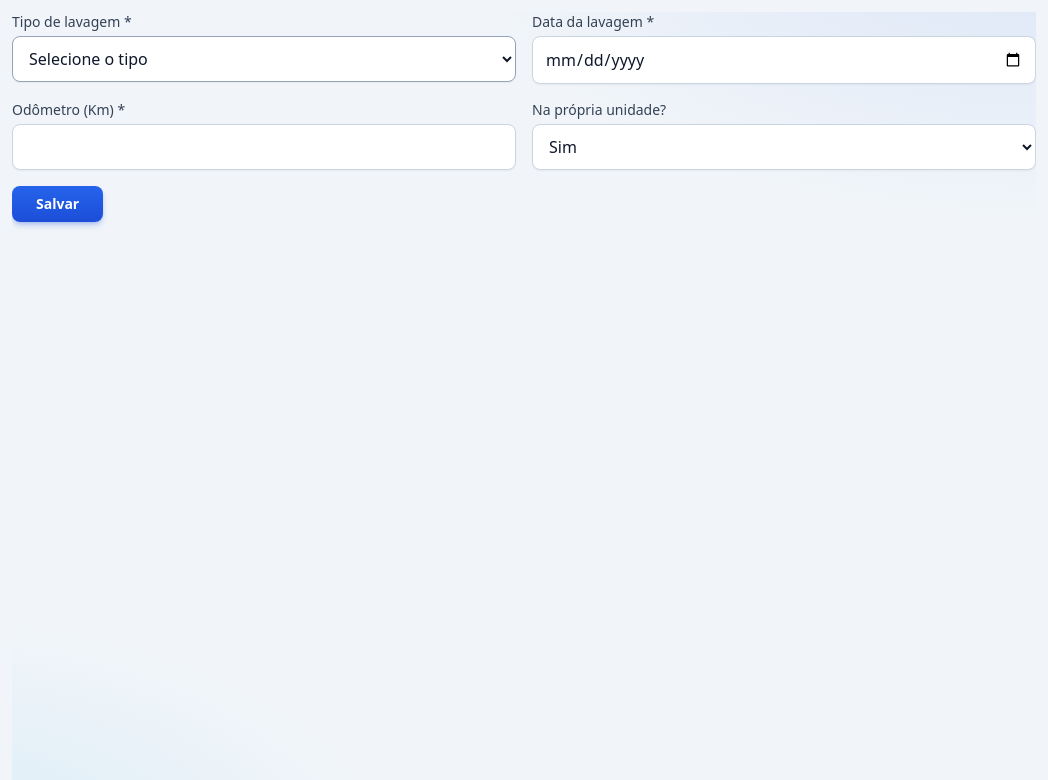
LavagemForm — km no envio (Req. 4.3 / R04) › R04: km zero bloqueia o envio e sinaliza erro no campo Odômetro
The image size is (1048, 780).
Select "Completa" in the dropdown labelled "Tipo de lavagem *" at [264, 59], box left=12, top=36, right=516, bottom=82
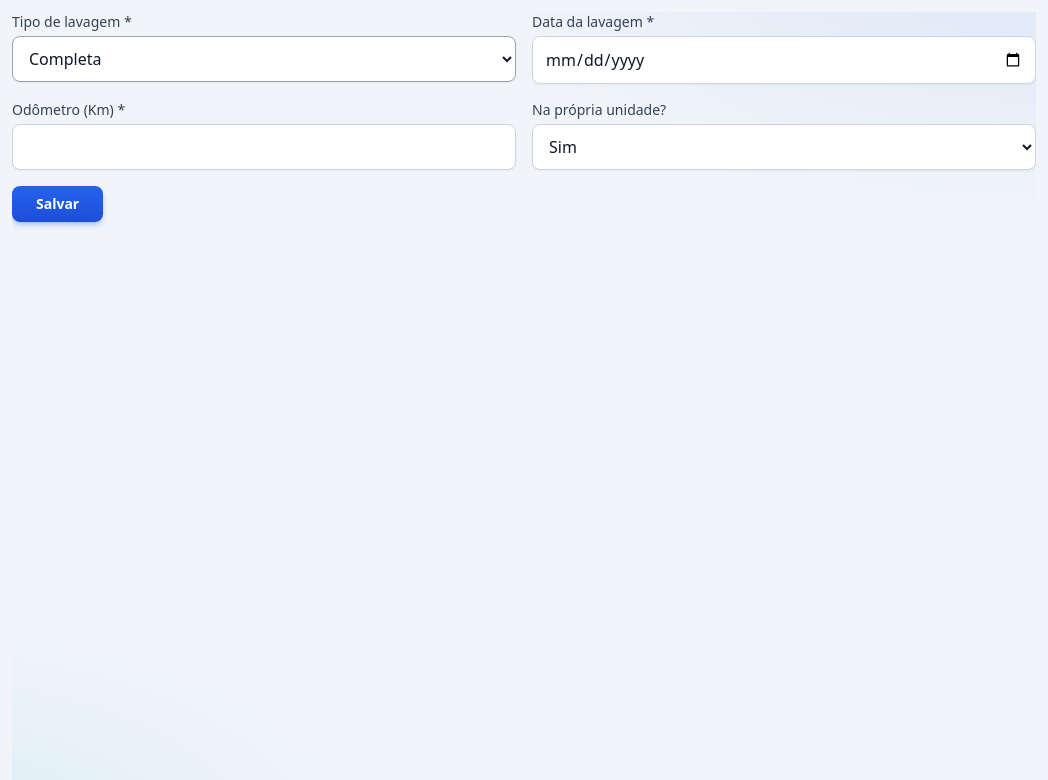
Type "2026-01-15" into the date field labelled "Data da lavagem *" at [784, 60], box left=532, top=36, right=1036, bottom=84
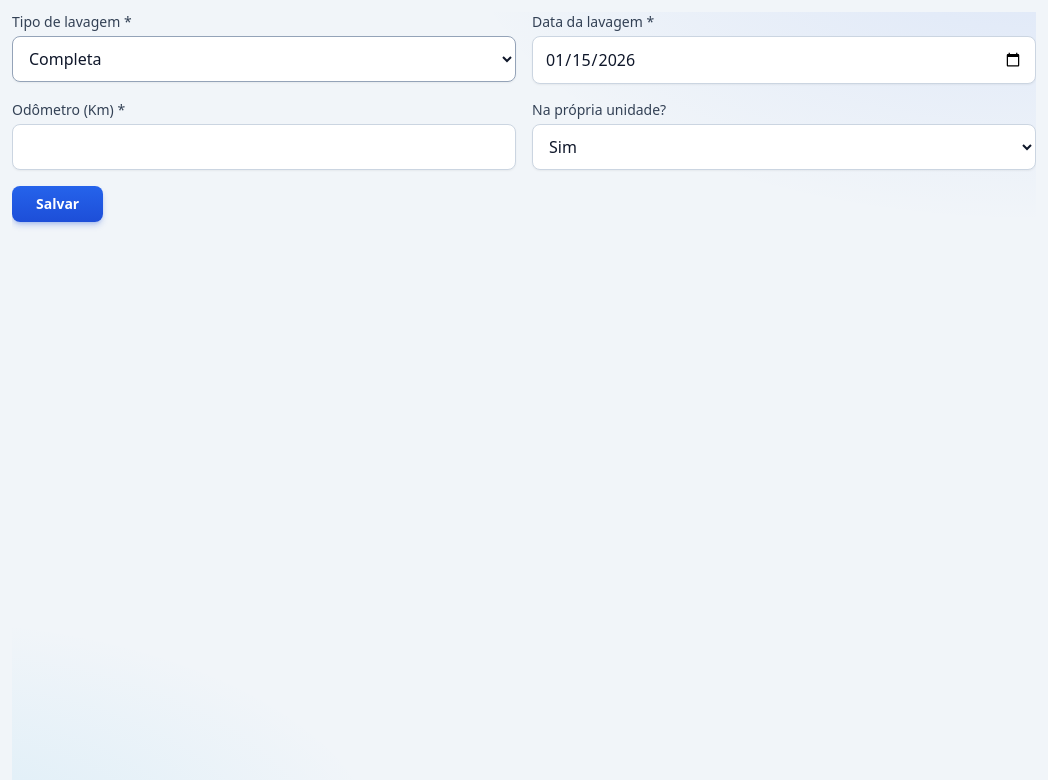
Type "0" into the number field labelled "Odômetro (Km) *" at [264, 147], box left=12, top=124, right=516, bottom=170
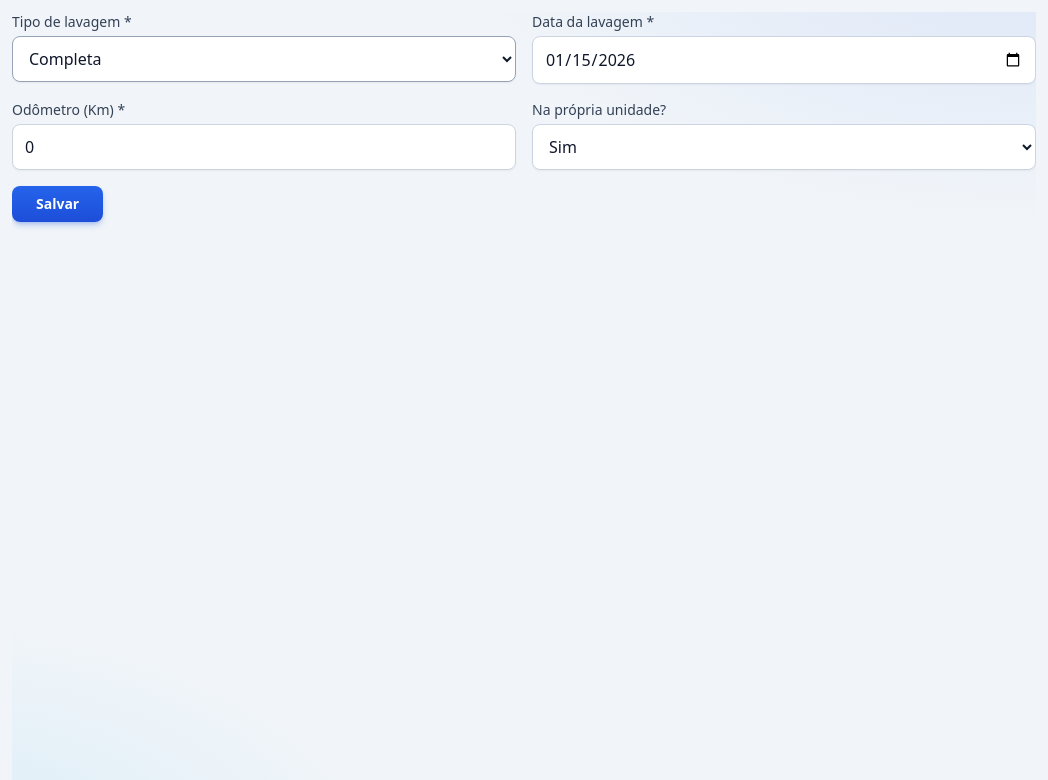
Click the button "Salvar" at [58, 204], box left=12, top=186, right=103, bottom=222
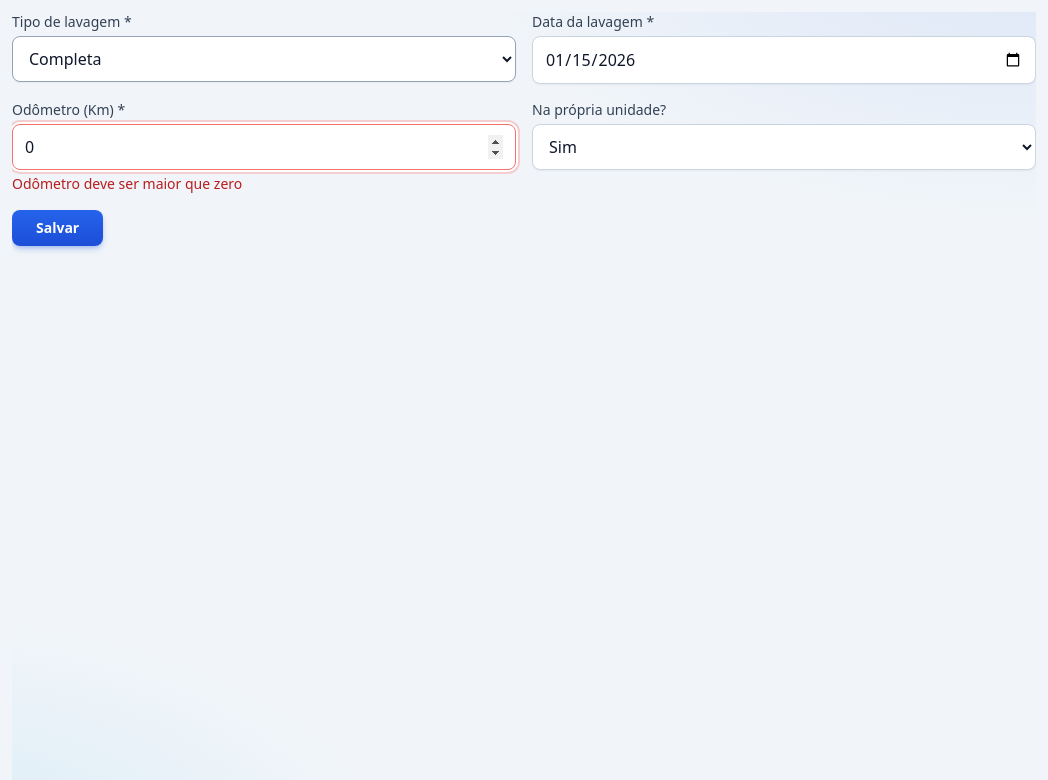
Expected: the text "Odômetro deve ser maior que zero" is shown, left=12, top=174, right=242, bottom=193
